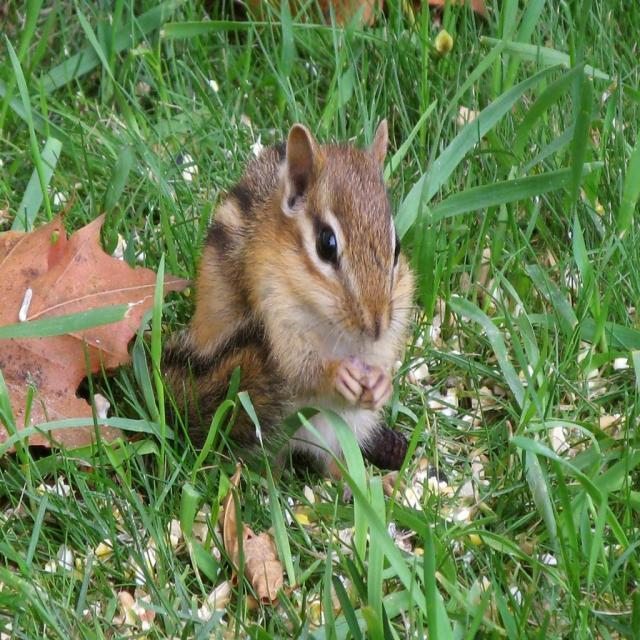rat: (70, 101, 402, 488)
